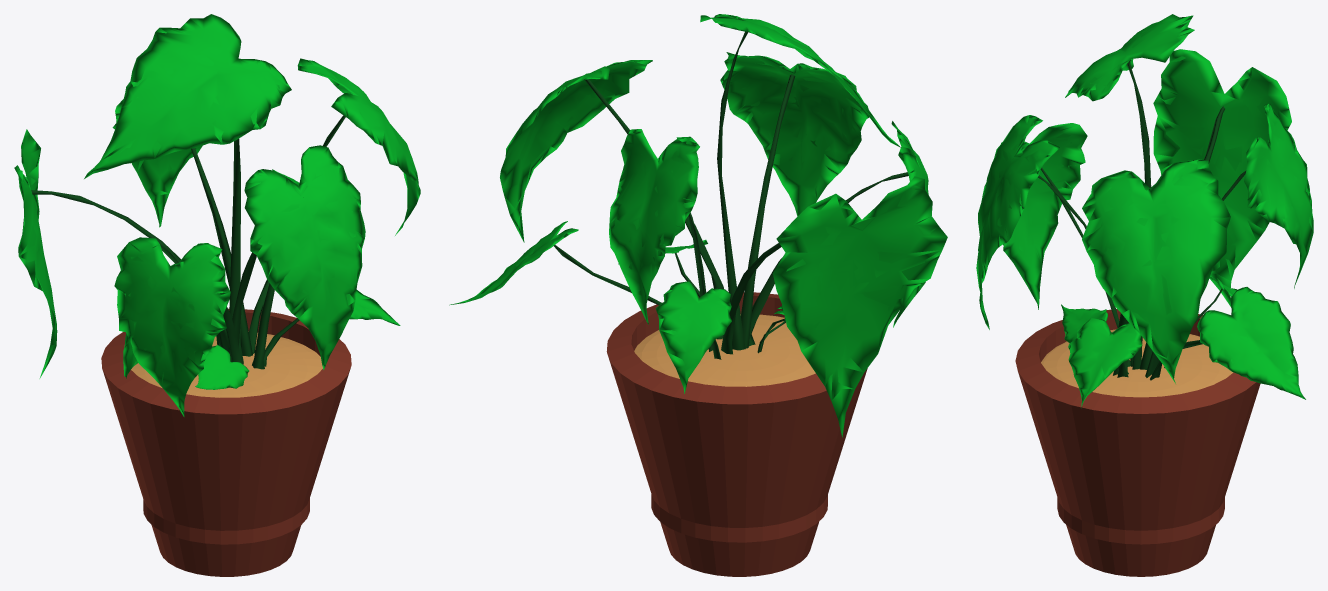
The picture shows the model from 3 angles, left to right: view 1: azimuth 30°, elevation 25°; view 2: azimuth 150°, elevation 25°; view 3: azimuth 270°, elevation 25°; orthographic projection. The views are drawn at different scales.
Parts seen in each view (by area): view 1: Cylinder, leaf02_000, Leaf_000, leaf05_000, stem, Sphere, leaf03_000, lef04_000, Leaf006_000, Leaf_010, Leaf_008; view 2: Cylinder, lef04_000, Leaf_000, Leaf006_000, stem, leaf03_000, Sphere, Leaf_011, leaf02_000, Leaf007, leaf05_000; view 3: Cylinder, leaf03_000, lef04_000, Leaf007, Leaf006_000, leaf05_000, Leaf_000, Sphere, leaf02_000, Leaf_008, stem, Leaf_010.
Boxes of the visible parts, left/top/right/bottom form: Cylinder: left=101, top=308, right=351, bottom=576; leaf02_000: left=84, top=14, right=291, bottom=178; Leaf_000: left=244, top=145, right=365, bottom=369; leaf05_000: left=114, top=237, right=230, bottom=416; stem: left=31, top=115, right=345, bottom=369; Sphere: left=131, top=331, right=322, bottom=397; leaf03_000: left=297, top=58, right=420, bottom=235; lef04_000: left=14, top=129, right=57, bottom=378; Leaf006_000: left=112, top=99, right=202, bottom=227; Leaf_010: left=195, top=345, right=249, bottom=389; Leaf_008: left=349, top=290, right=400, bottom=325; Cylinder: left=606, top=292, right=867, bottom=576; lef04_000: left=773, top=176, right=947, bottom=437; Leaf_000: left=720, top=52, right=869, bottom=216; Leaf006_000: left=609, top=129, right=699, bottom=324; stem: left=554, top=31, right=908, bottom=359; leaf03_000: left=500, top=60, right=652, bottom=242; Sphere: left=634, top=314, right=815, bottom=386; Leaf_011: left=655, top=281, right=731, bottom=393; leaf02_000: left=700, top=14, right=900, bottom=147; Leaf007: left=449, top=221, right=578, bottom=305; leaf05_000: left=891, top=121, right=928, bottom=327; Cylinder: left=1015, top=309, right=1260, bottom=576; leaf03_000: left=1082, top=159, right=1230, bottom=383; lef04_000: left=1153, top=49, right=1291, bottom=307; Leaf007: left=1197, top=287, right=1305, bottom=399; Leaf006_000: left=1244, top=103, right=1313, bottom=288; leaf05_000: left=981, top=123, right=1087, bottom=309; Leaf_000: left=976, top=115, right=1059, bottom=329; Sphere: left=1041, top=329, right=1233, bottom=397; leaf02_000: left=1065, top=14, right=1194, bottom=101; Leaf_008: left=1068, top=318, right=1142, bottom=407; stem: left=1038, top=61, right=1246, bottom=380; Leaf_010: left=1061, top=304, right=1107, bottom=343.
Size of the model in its own units: 451 by 551 by 326.
